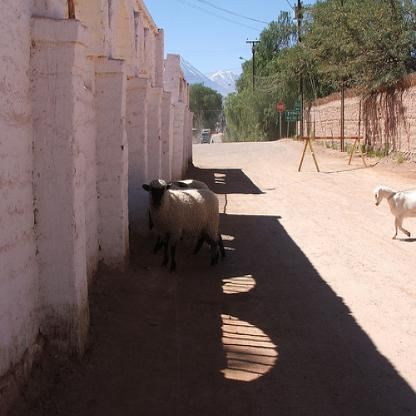sheep: (142, 177, 222, 273), (147, 178, 227, 258)
